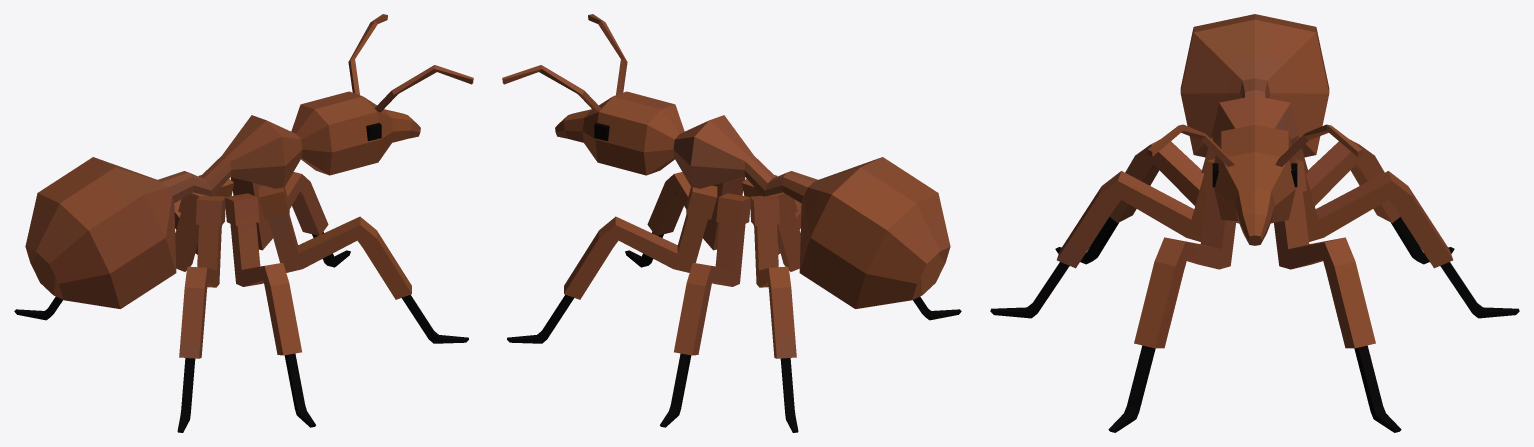
File: 7v2EF8dZgtA.glb
3 views of the same model, side by side, from view 1: azimuth 30°, elevation 25°; view 2: azimuth 150°, elevation 25°; view 3: azimuth 270°, elevation 25° (orthographic). The views are drawn at different scales.
Visible parts, largest first — view 1: Cube.026_Cube.037; view 2: Cube.026_Cube.037; view 3: Cube.026_Cube.037.
Part boxes in pixels (x1,y1,x2,y2): Cube.026_Cube.037: [14, 14, 473, 432]; Cube.026_Cube.037: [502, 14, 961, 432]; Cube.026_Cube.037: [990, 14, 1519, 432].
Bounding box in the file's own units: 1.62 × 1 × 1.56.
1 material, 1 textured.
